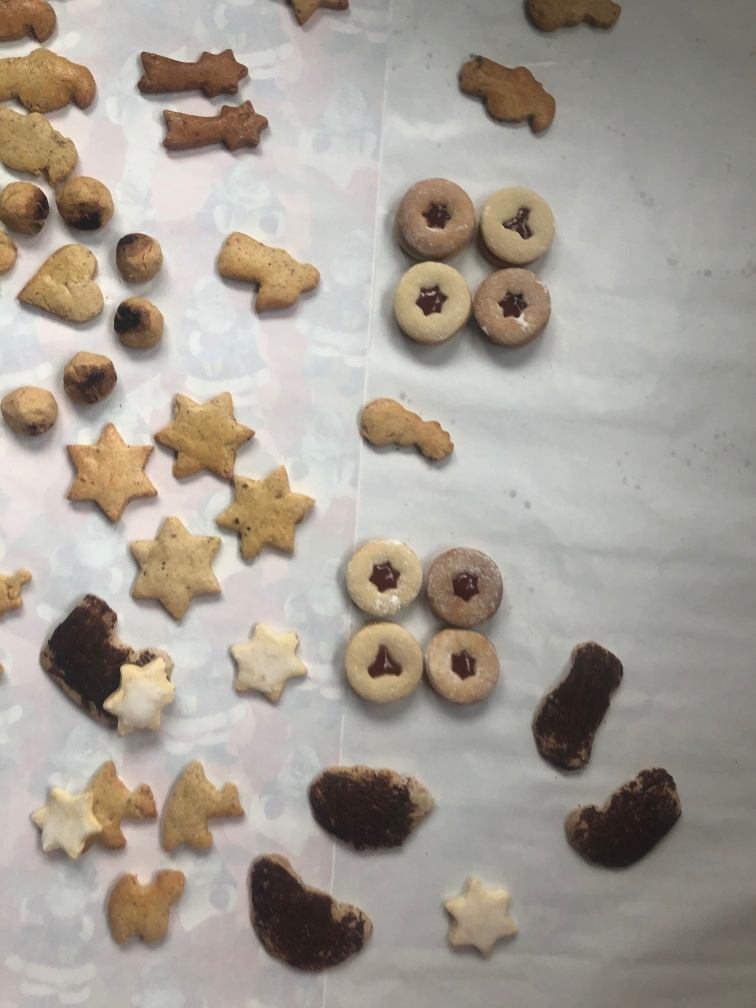angel: (212, 230, 330, 323)
christmas shortbread with jam: (334, 533, 426, 624), (389, 177, 481, 261), (344, 616, 427, 709), (423, 624, 508, 709), (472, 267, 552, 356), (478, 188, 559, 269), (425, 545, 503, 629), (393, 264, 471, 345)
heart: (17, 239, 105, 333)
santa claus: (453, 51, 560, 145), (1, 105, 81, 189), (1, 51, 99, 114), (1, 1, 65, 50)
shooting star: (129, 46, 253, 106), (154, 103, 276, 160)
snowball: (109, 290, 167, 360), (113, 224, 171, 292), (57, 348, 120, 409), (56, 171, 116, 235), (2, 381, 58, 440), (4, 173, 51, 240)
snowman: (357, 393, 462, 470)
star: (126, 511, 227, 626), (213, 461, 321, 567), (61, 417, 159, 527), (153, 390, 258, 484), (226, 620, 308, 710), (107, 649, 182, 743), (26, 772, 101, 861)
weird #1: (244, 851, 378, 978), (524, 633, 625, 784), (564, 756, 681, 874), (304, 757, 438, 860), (37, 591, 124, 724)
